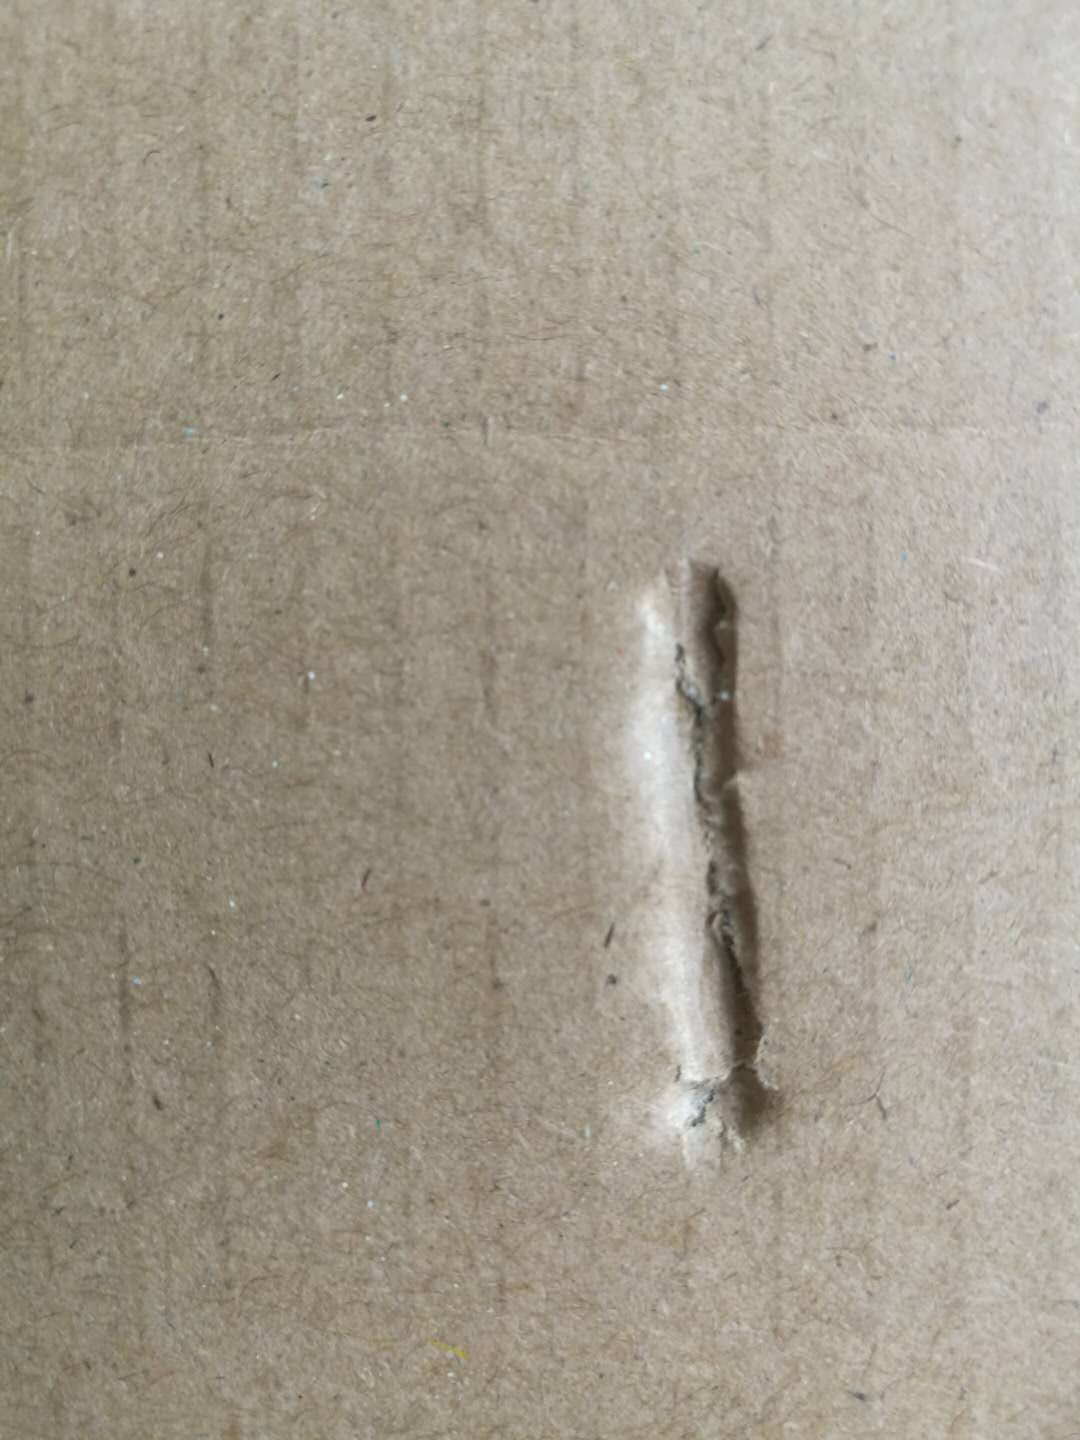defect: (591, 513, 894, 1192)
